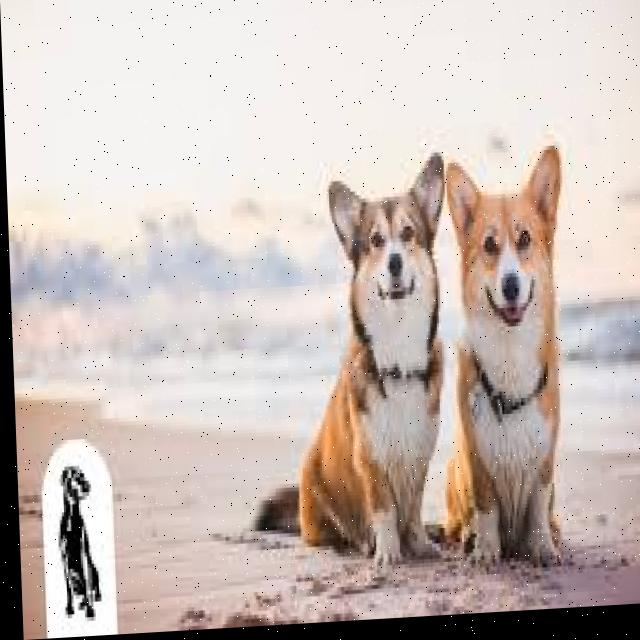CORGI: (279, 144, 462, 601), (420, 142, 584, 597)
